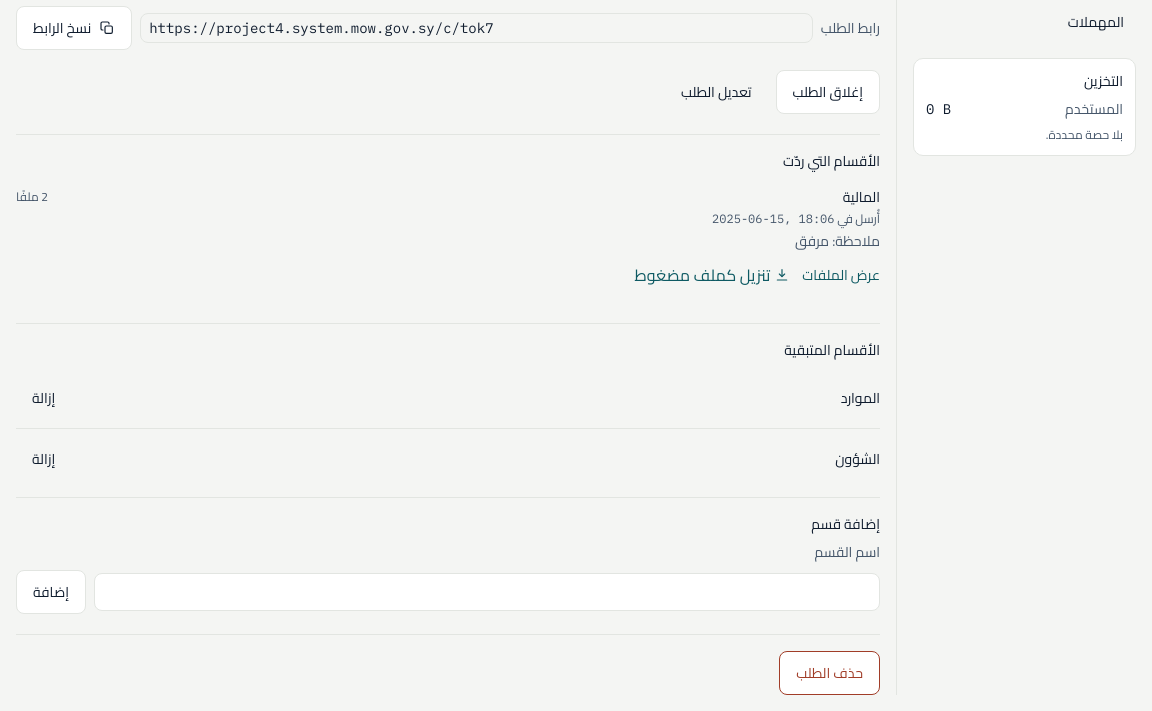
CollectionDetail — roster + lifecycle (Collections Phase 3 / Task 5) › add department POSTs; duplicate (409) shows the duplicate toast
(page scrolled)
Type "المالية" into the field labelled "اسم القسم" at [487, 592], box top-left (94, 573), bottom-right (880, 611)
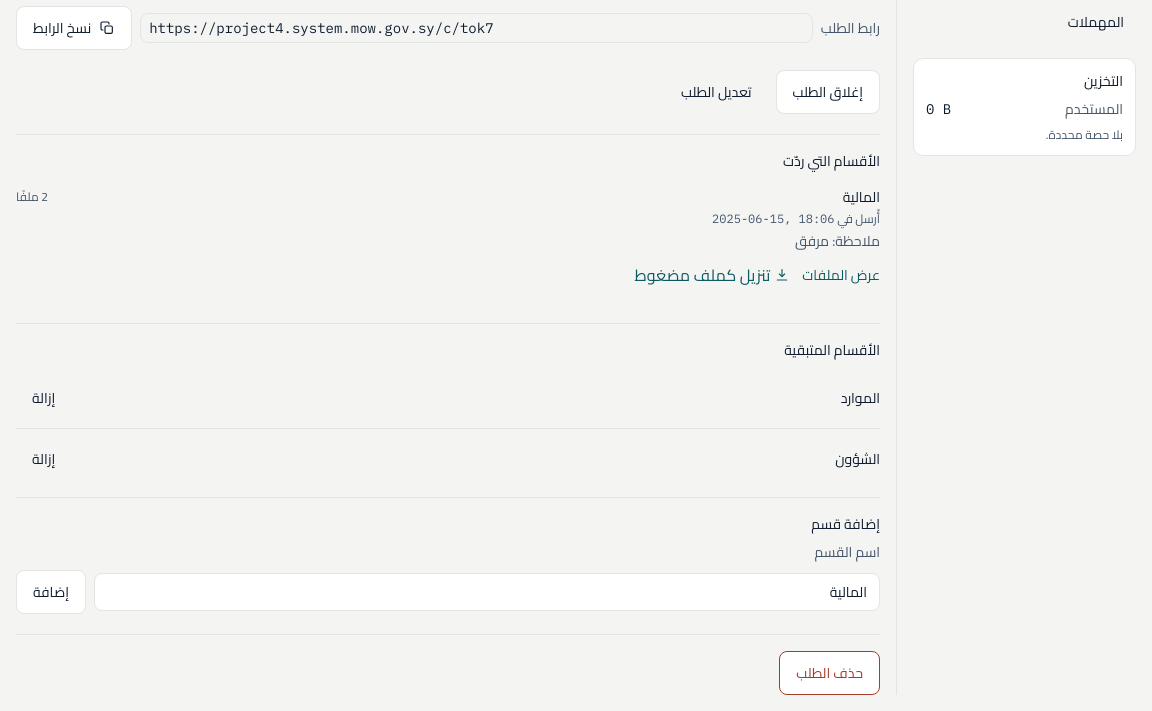
Click the button "إضافة" at [51, 592], box top-left (16, 570), bottom-right (86, 614)
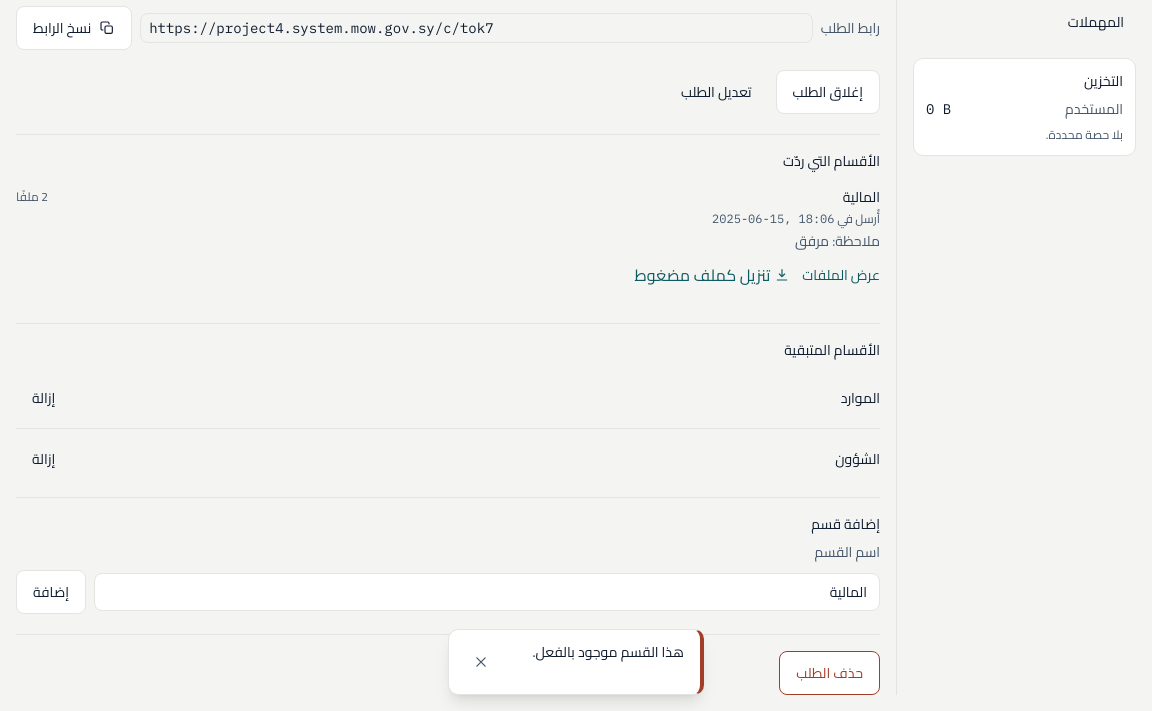
Expected: the text "هذا القسم موجود بالفعل." is shown, top-left (513, 642), bottom-right (684, 662)
